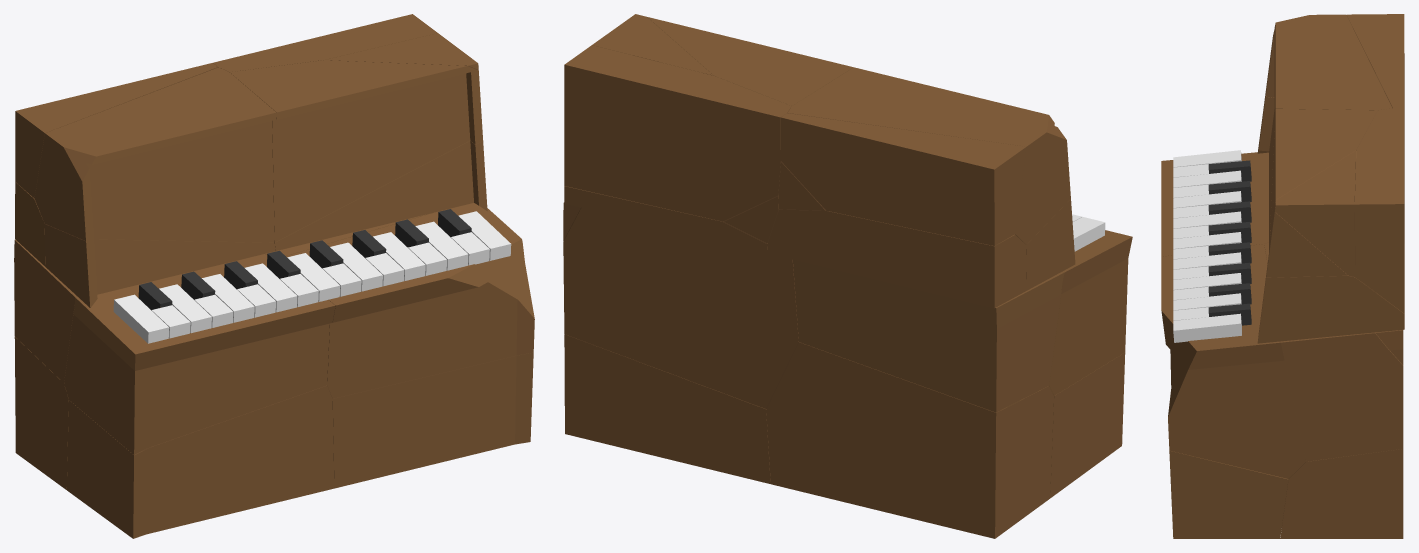
The model's file is piano-parts.fbx.
The picture shows the model from 3 angles, left to right: view 1: azimuth 30°, elevation 25°; view 2: azimuth 150°, elevation 25°; view 3: azimuth 270°, elevation 25°; orthographic projection. The views are drawn at different scales.
Parts seen in each view (by area): view 1: piano-top_cell.005, piano-base_cell.008, piano-top_cell, piano-base_cell.005, piano-base_cell.007, piano-base_cell.001, piano-top_cell.004, piano-top_cell.003, piano-base_cell.003, piano-base_cell, piano-top_cell.002, piano-top_cell.007 (+27 smaller); view 2: piano-base_cell.003, piano-base_cell.004, piano-top_cell.007, piano-base_cell, piano-top_cell.002, piano-base_cell.009, piano-top_cell.005, piano-top_cell.009, piano-base_cell.008, piano-top_cell, piano-base_cell.005, piano-top_cell.003 (+3 smaller); view 3: piano-base_cell.007, piano-base_cell.004, piano-base_cell.009, piano-top_cell.005, piano-top_cell.007, piano-top_cell, piano-base_cell.001, piano-top_cell.003, piano-top_cell.006, piano-top_cell.002, piano-base_cell.008, piano-keys.009 (+26 smaller).
Boxes of the visible parts, left/top/right/bottom form: piano-top_cell.005: left=34, top=67, right=276, bottom=242; piano-base_cell.008: left=64, top=254, right=335, bottom=454; piano-top_cell: left=230, top=60, right=483, bottom=242; piano-base_cell.005: left=67, top=385, right=334, bottom=538; piano-base_cell.007: left=286, top=203, right=534, bottom=398; piano-base_cell.001: left=332, top=352, right=533, bottom=488; piano-top_cell.004: left=44, top=224, right=275, bottom=307; piano-top_cell.003: left=274, top=140, right=487, bottom=250; piano-base_cell.003: left=14, top=337, right=68, bottom=489; piano-base_cell: left=14, top=239, right=77, bottom=382; piano-top_cell.002: left=15, top=63, right=217, bottom=198; piano-top_cell.007: left=213, top=14, right=437, bottom=72; piano-base_cell.003: left=766, top=342, right=1053, bottom=538; piano-base_cell.004: left=563, top=207, right=798, bottom=408; piano-top_cell.007: left=564, top=45, right=791, bottom=221; piano-base_cell: left=792, top=259, right=1064, bottom=412; piano-top_cell.002: left=781, top=113, right=1026, bottom=245; piano-base_cell.009: left=564, top=334, right=770, bottom=483; piano-top_cell.005: left=778, top=67, right=1070, bottom=244; piano-top_cell.009: left=767, top=209, right=1026, bottom=308; piano-base_cell.008: left=1049, top=230, right=1132, bottom=395; piano-top_cell: left=647, top=17, right=853, bottom=243; piano-base_cell.005: left=1050, top=352, right=1125, bottom=497; piano-top_cell.003: left=564, top=186, right=767, bottom=252; piano-base_cell.007: left=1161, top=244, right=1305, bottom=478; piano-base_cell.004: left=1264, top=242, right=1403, bottom=461; piano-base_cell.009: left=1280, top=449, right=1403, bottom=538; piano-top_cell.005: left=1265, top=14, right=1392, bottom=227; piano-top_cell.007: left=1354, top=108, right=1404, bottom=313; piano-top_cell: left=1266, top=109, right=1377, bottom=277; piano-base_cell.001: left=1169, top=450, right=1288, bottom=538; piano-top_cell.003: left=1257, top=231, right=1404, bottom=343; piano-top_cell.006: left=1275, top=150, right=1356, bottom=276; piano-top_cell.002: left=1346, top=14, right=1404, bottom=147; piano-base_cell.008: left=1161, top=152, right=1268, bottom=256; piano-keys.009: left=1173, top=313, right=1241, bottom=342.
Bounding box in the file's own units: 4.83 × 3.89 × 2.56.
